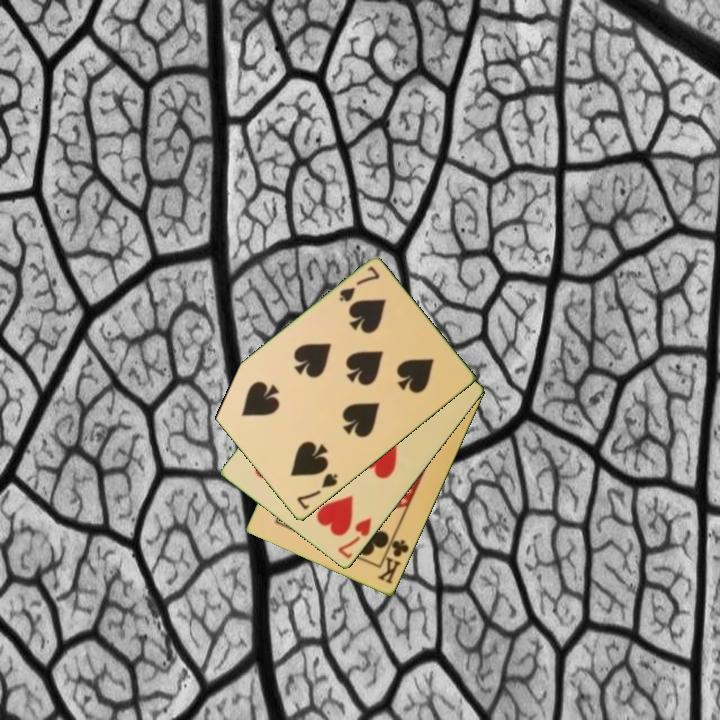7h: (334, 514, 375, 562)
7s: (293, 470, 341, 513), (336, 263, 383, 305)
Kc: (374, 531, 412, 587)
